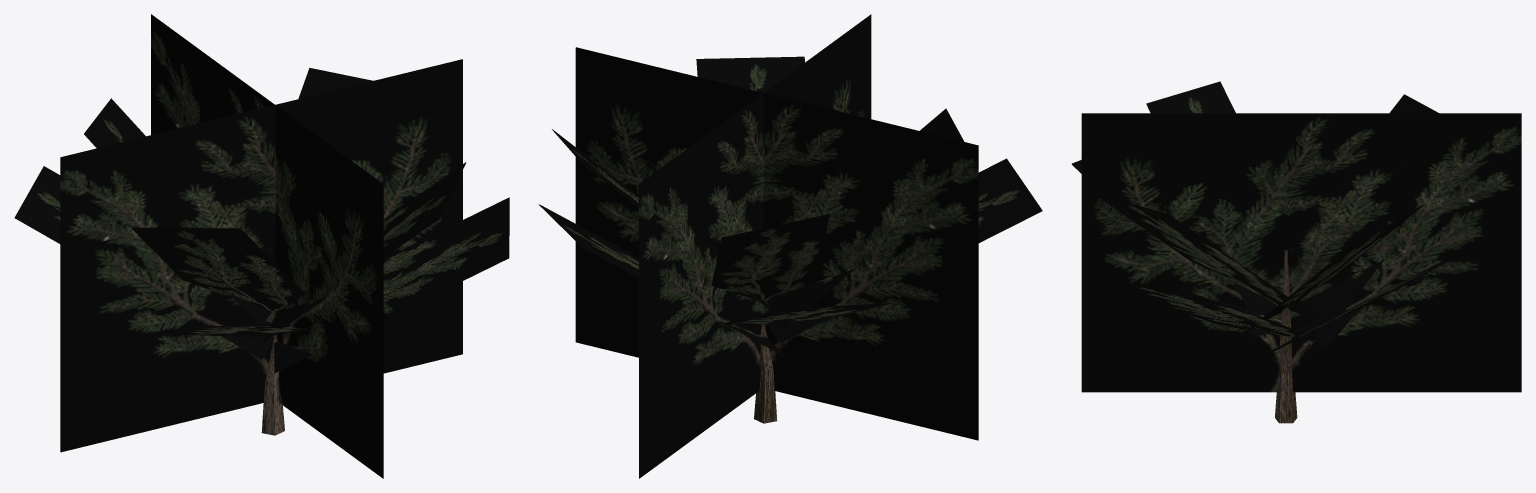
File: mtns_shrb_evergreen_l0.fbx
3 renders of one model, left to right at view 1: azimuth 30°, elevation 25°; view 2: azimuth 150°, elevation 25°; view 3: azimuth 270°, elevation 25°, orthographic. The views are drawn at different scales.
Visible parts, largest first — view 1: mesh_node; view 2: mesh_node; view 3: mesh_node.
Boxes of the visible parts, box(x1,y1,x2,y2) form: mesh_node: box(14, 14, 509, 478); mesh_node: box(538, 14, 1042, 478); mesh_node: box(1072, 81, 1521, 423).
Bounding box in the file's own units: 5.55 × 4.28 × 5.68.
